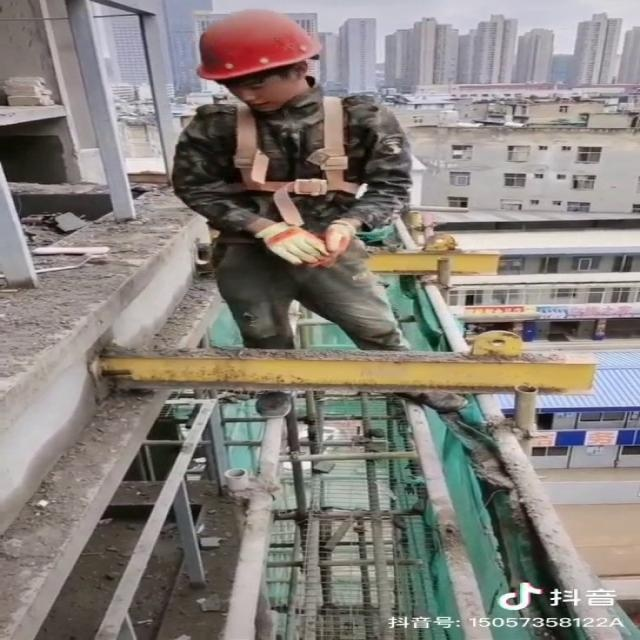Arnes_seguridad: (192, 93, 389, 246)
